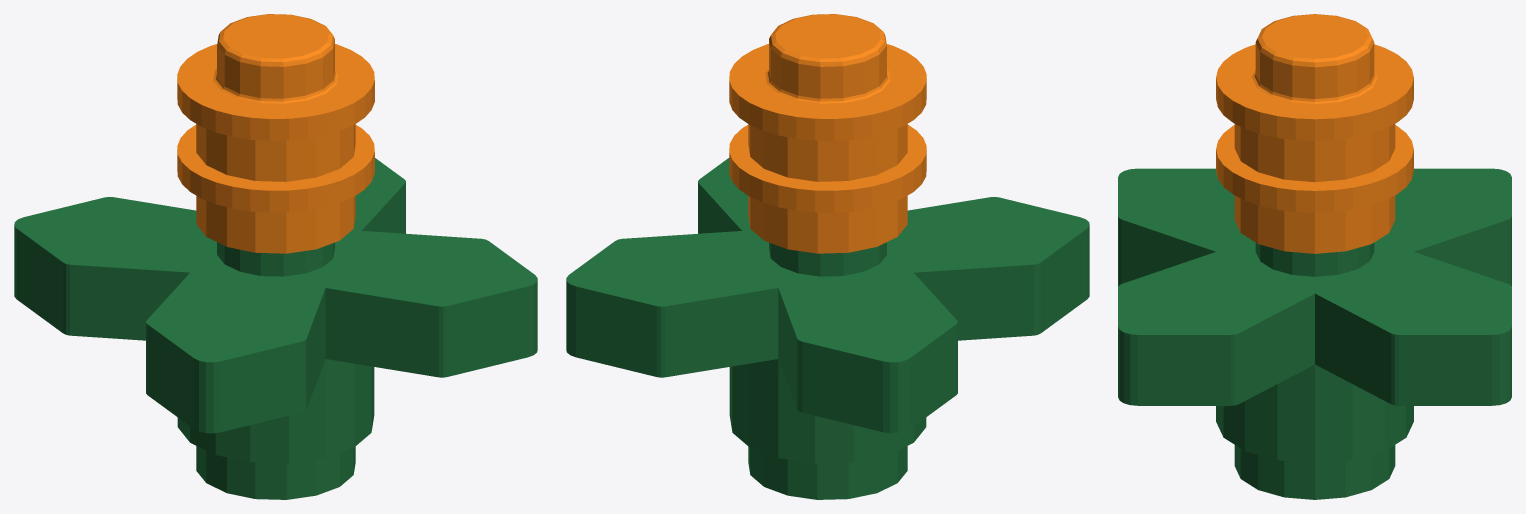
File: flower_orange.glb
3 views of the same model, side by side, from view 1: azimuth 30°, elevation 25°; view 2: azimuth 150°, elevation 25°; view 3: azimuth 270°, elevation 25° (orthographic).
Visible parts, largest first — view 1: flower_orange; view 2: flower_orange; view 3: flower_orange.
Boxes of the visible parts, x1,y1,x2,y2 form: flower_orange: [14, 14, 537, 499]; flower_orange: [566, 14, 1089, 499]; flower_orange: [1118, 14, 1511, 499].
Bounding box in the file's own units: 0.7562 × 0.9101 × 0.7562.
